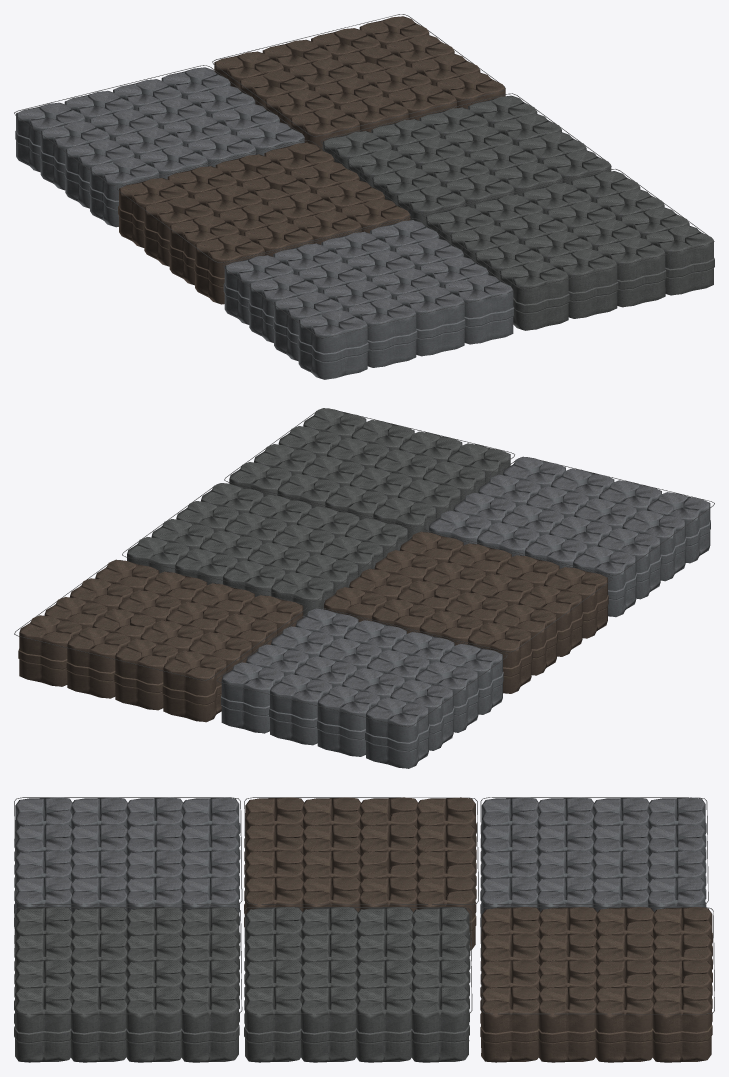
File: Coils.glb
3 renders of one model, top to bottom at view 1: azimuth 30°, elevation 25°; view 2: azimuth 150°, elevation 25°; view 3: azimuth 270°, elevation 25°, orthographic. The views are drawn at different scales.
Visible parts, largest first — view 1: CoilModules; view 2: CoilModules; view 3: CoilModules.
Part boxes in pixels (x1,y1,x2,y2): CoilModules: (14,14,714,379); CoilModules: (14,408,714,768); CoilModules: (14,797,714,1062).
Size of the model in its own units: 1.44 by 0.161 by 1.97.
Materials: 1 (1 with a texture image).
